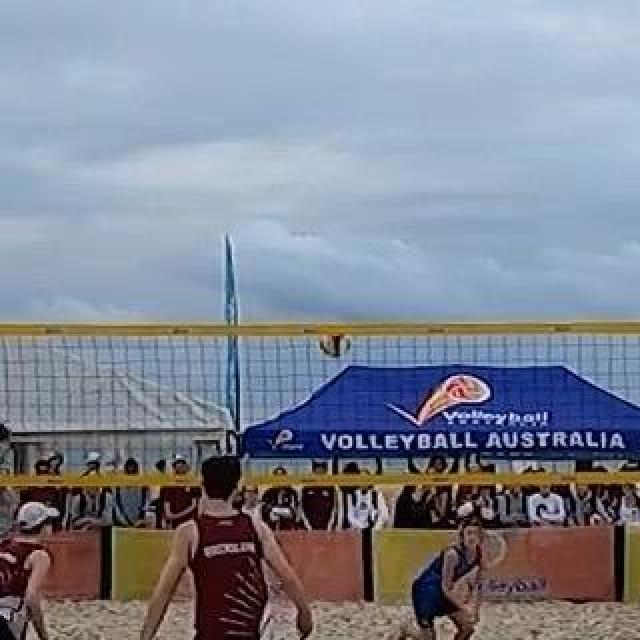volleyball: (317, 323, 353, 355)
